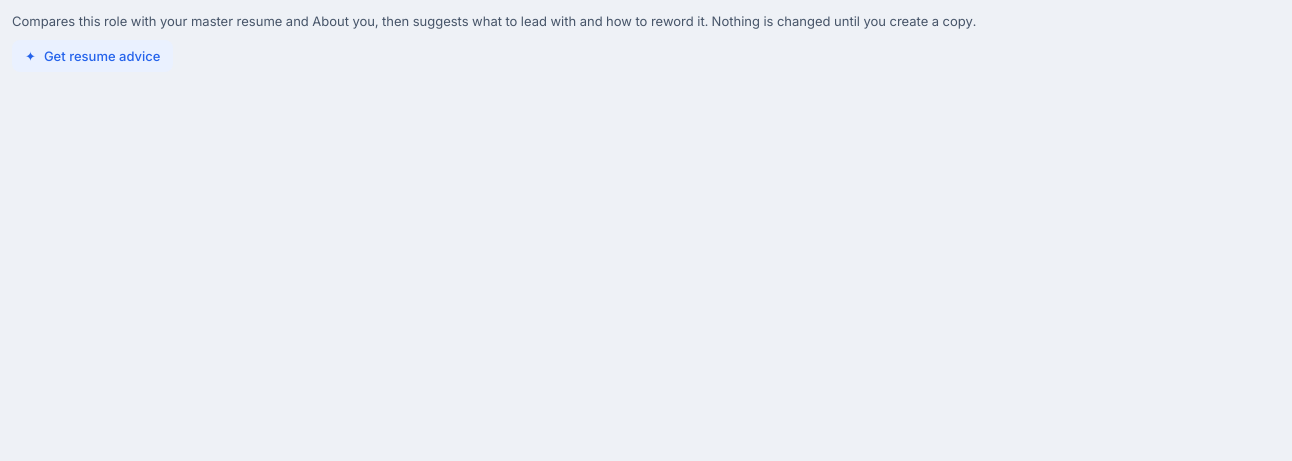
Scenario: JobAdvice › asks only when clicked, shows the advice, and sends only the ticked edits
Later steps or results of the test are not shown.
Click the button "✦ Get resume advice": [93, 56] box x1=12 y1=40 x2=174 y2=72
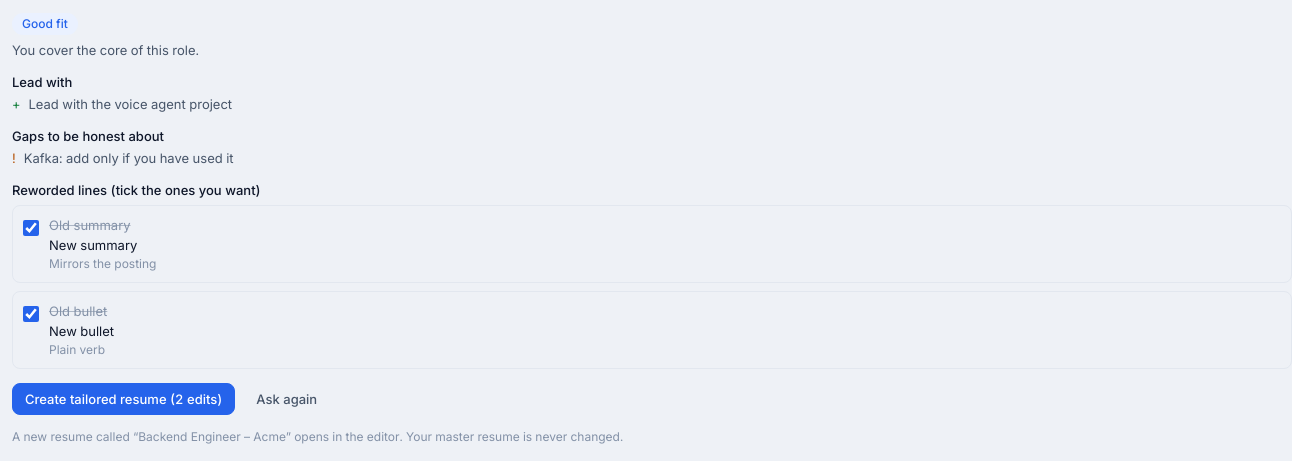
expect the text "Good fit" is shown: met, box x1=12 y1=13 x2=78 y2=35
expect the list item "Lead with the voice agent project" is shown: met, box x1=28 y1=96 x2=232 y2=112
expect the list item "! Kafka: add only if you have used it" is shown: met, box x1=12 y1=150 x2=234 y2=166
